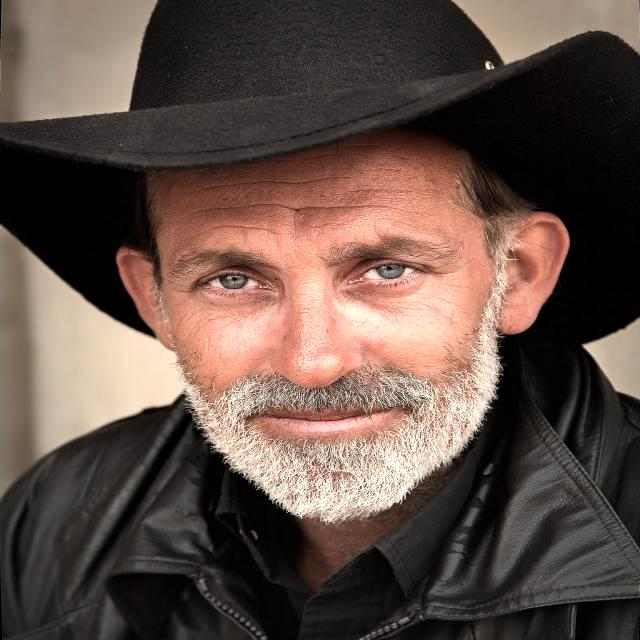no_hard_hat: (0, 0, 639, 343)
person: (0, 114, 639, 640)
